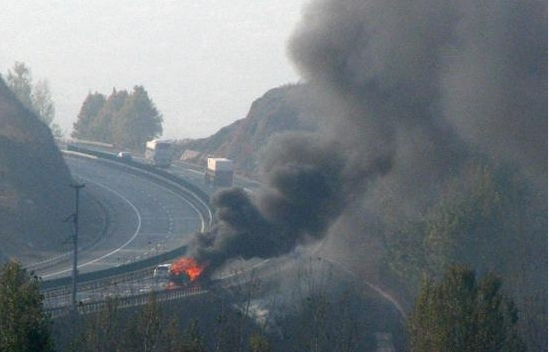山火: (165, 257, 210, 290)
烟雾: (167, 0, 549, 291)
